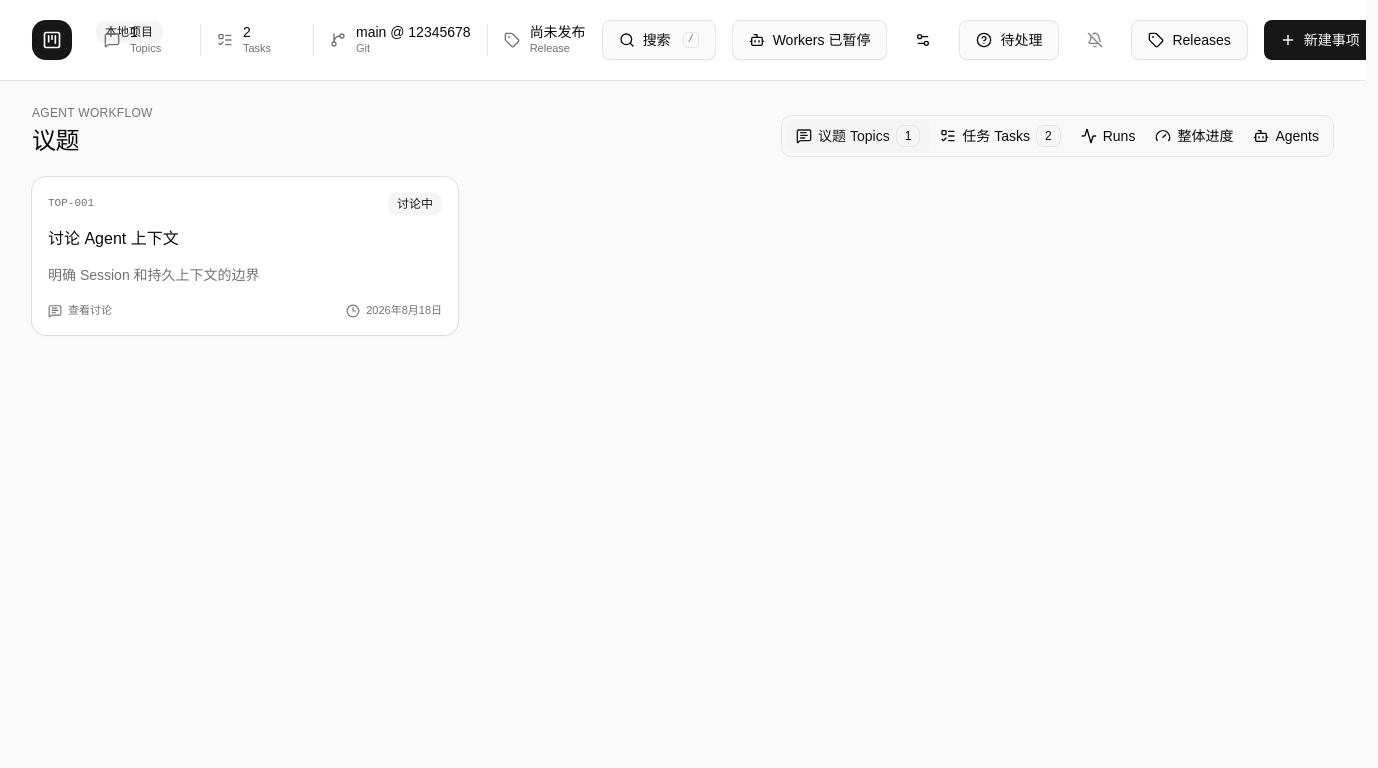
Test: App › 从全局 Run 页面确认后取消活跃执行
Click the tab "Runs": click(1108, 136) [1071,120,1145,152]
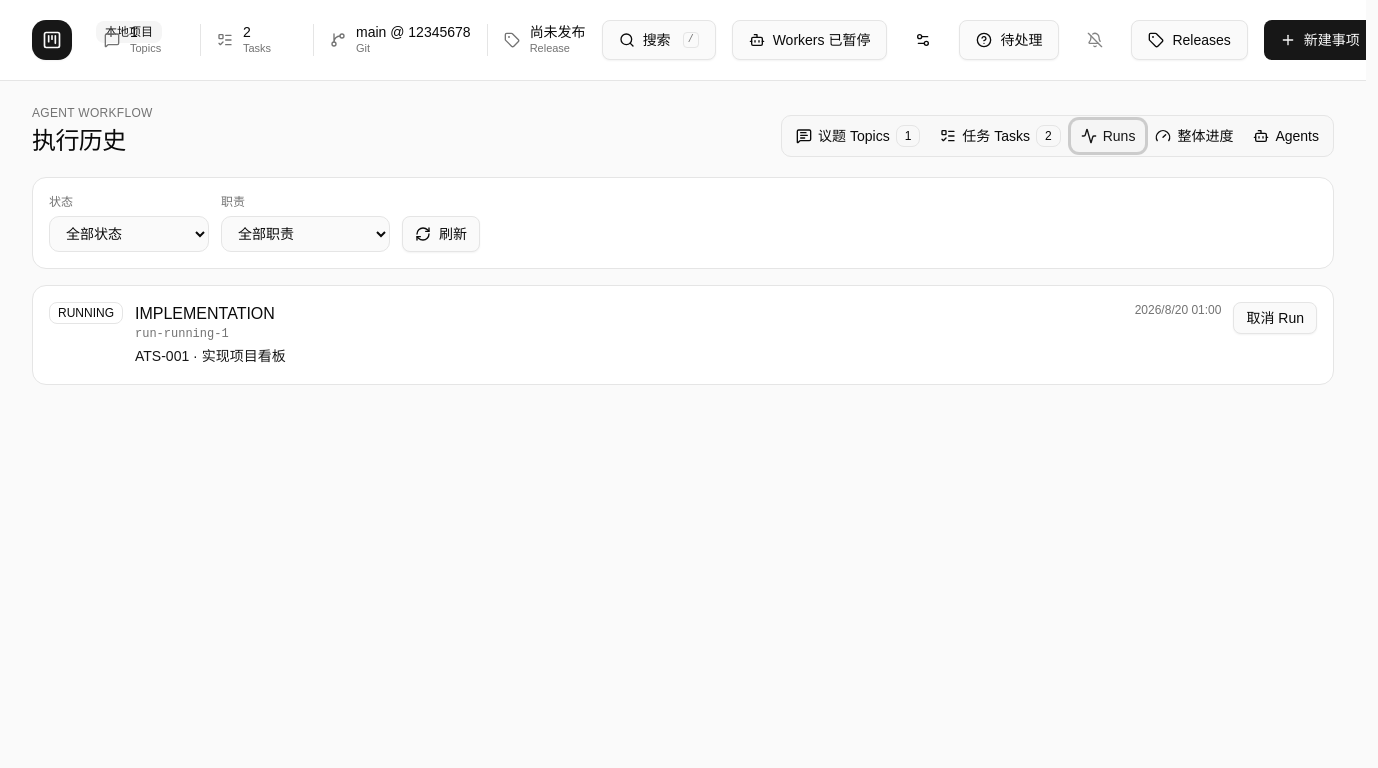
Expected: the text "run-running-1" is shown, [135,327,229,341]
Click the button "取消 Run": click(1275, 318) [1233,302,1317,334]
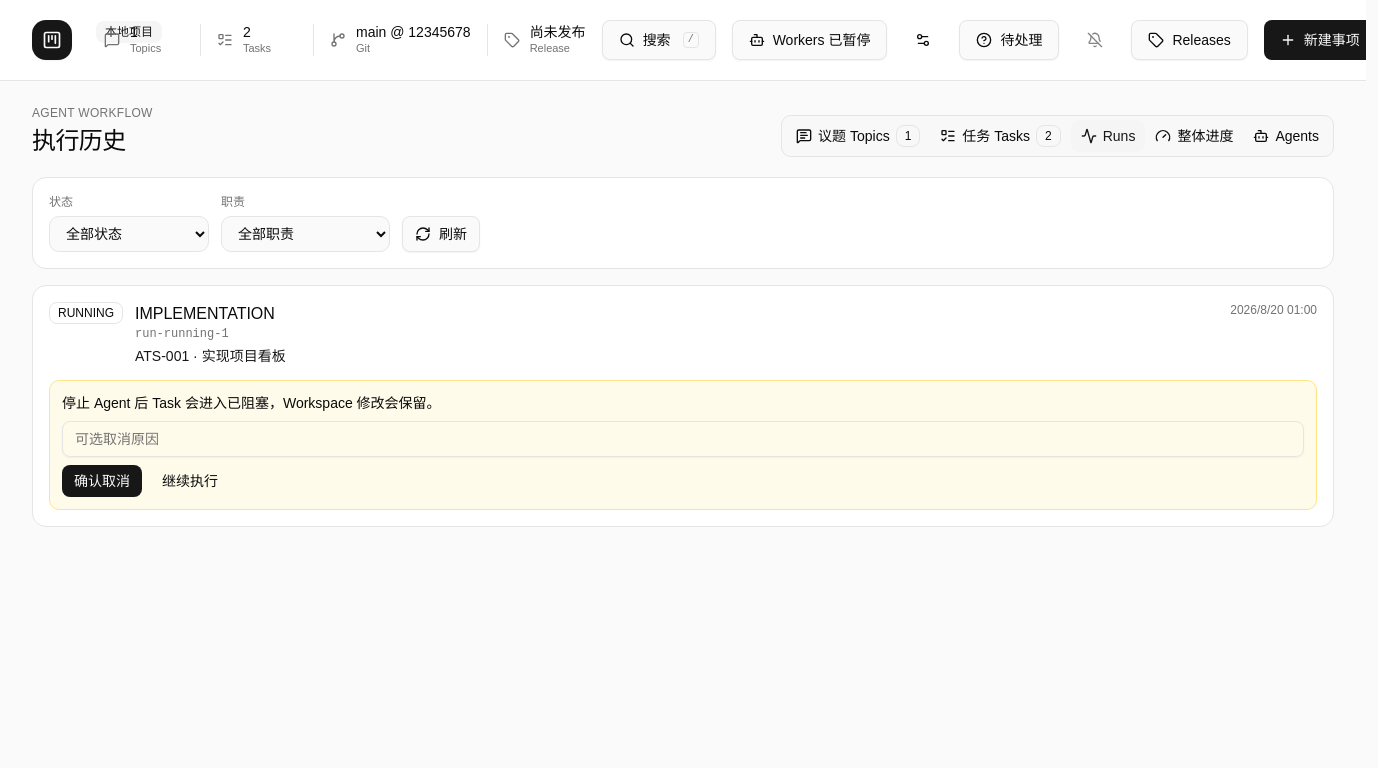
In the field named "取消原因 run-running-1": (683, 439) [62,421,1304,457], type "停止错误方向"
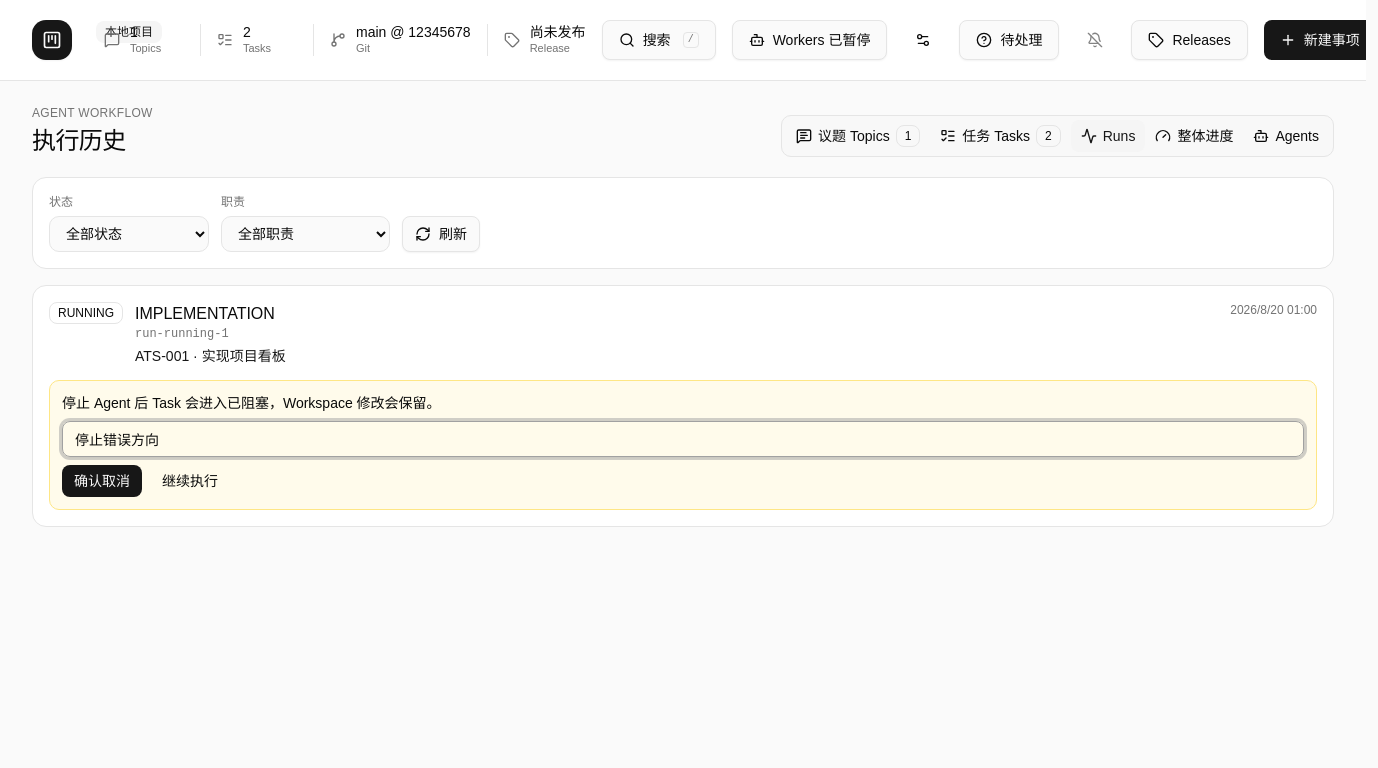
Click the button "确认取消": click(102, 481) [62,465,142,497]
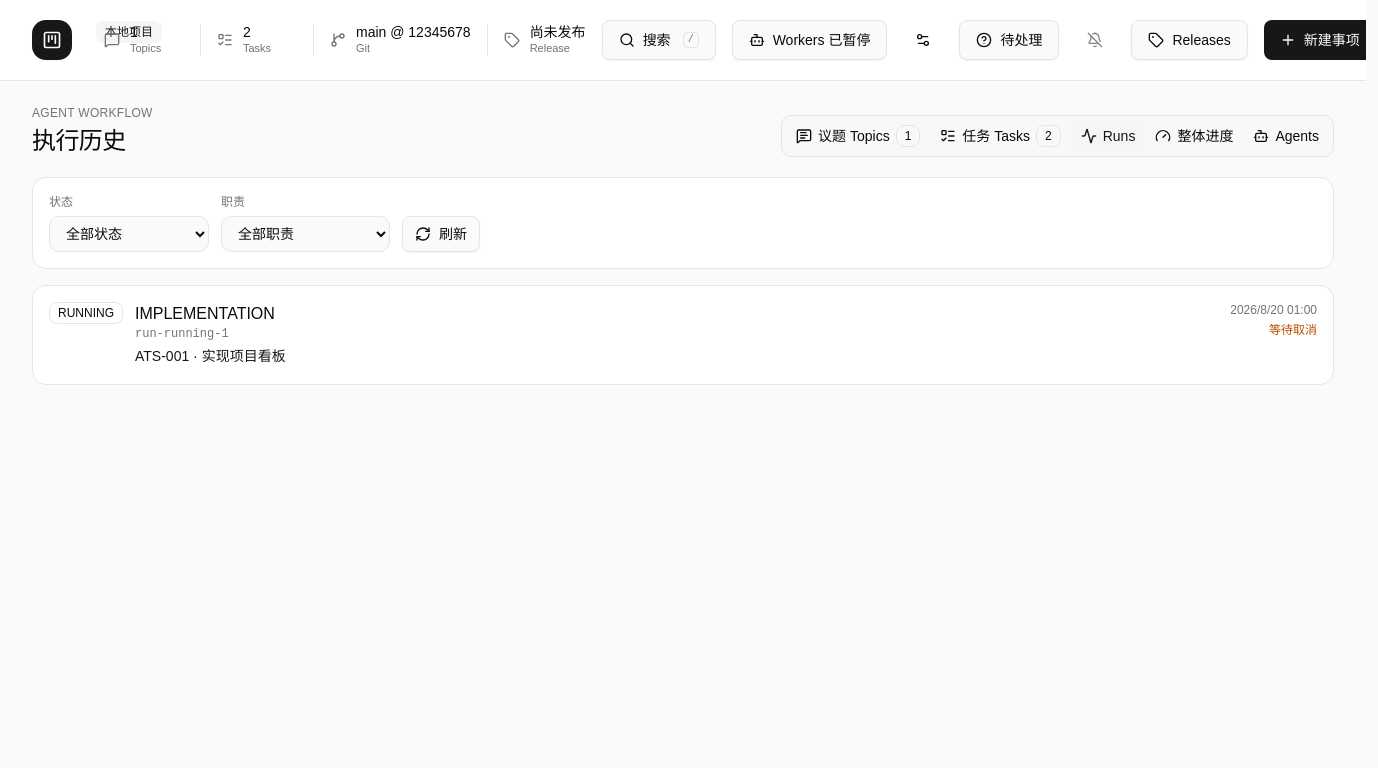
Expected: the text "等待取消" is shown, [1269,323,1317,337]
